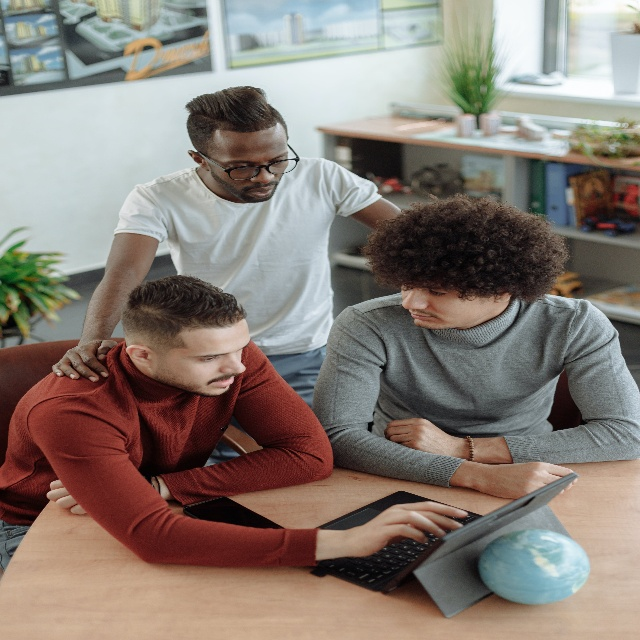Gafas: (204, 123, 290, 204)
Sin_guantes: (349, 498, 470, 558), (384, 417, 471, 463), (489, 461, 579, 501), (51, 336, 119, 383), (46, 473, 86, 515)
